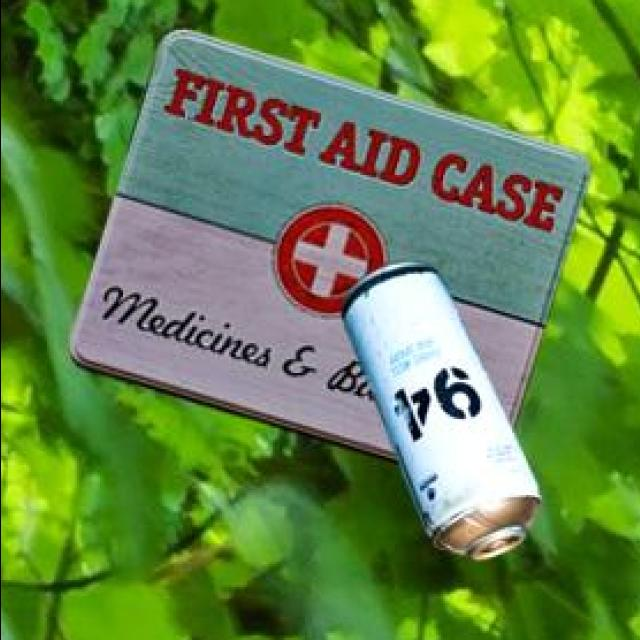logam: (73, 26, 593, 459), (344, 259, 544, 556)
